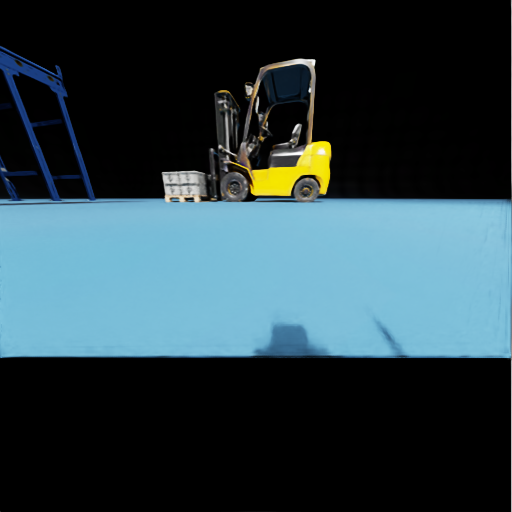transportation_area: (180, 184, 210, 194)
